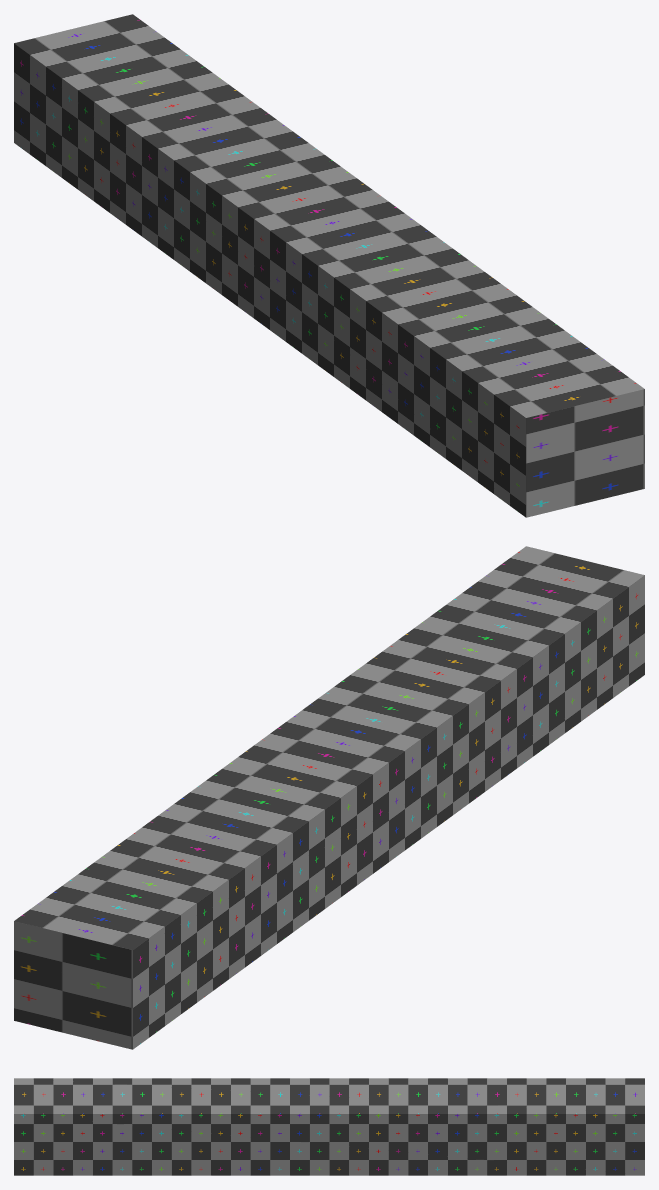
The model's file is scenario_prototype_interior_roof_middle.fbx.
3 views of the same model, one above another, from view 1: azimuth 30°, elevation 25°; view 2: azimuth 150°, elevation 25°; view 3: azimuth 270°, elevation 25° (orthographic). The views are drawn at different scales.
Parts seen in each view (by area): view 1: interior_roof_middle; view 2: interior_roof_middle; view 3: interior_roof_middle.
Part boxes in pixels (bbox=[...]): interior_roof_middle: bbox=[14, 14, 644, 517]; interior_roof_middle: bbox=[14, 546, 644, 1049]; interior_roof_middle: bbox=[14, 1078, 644, 1175].
Size of the model in its own units: 748 by 600 by 5588.
